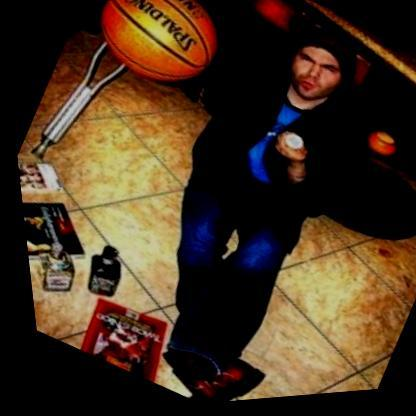basketball: (74, 0, 246, 115)
